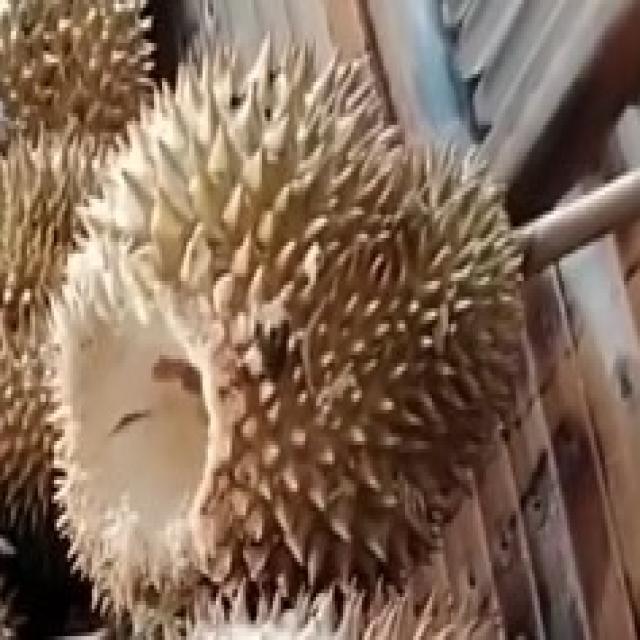defective: (38, 26, 524, 610)
